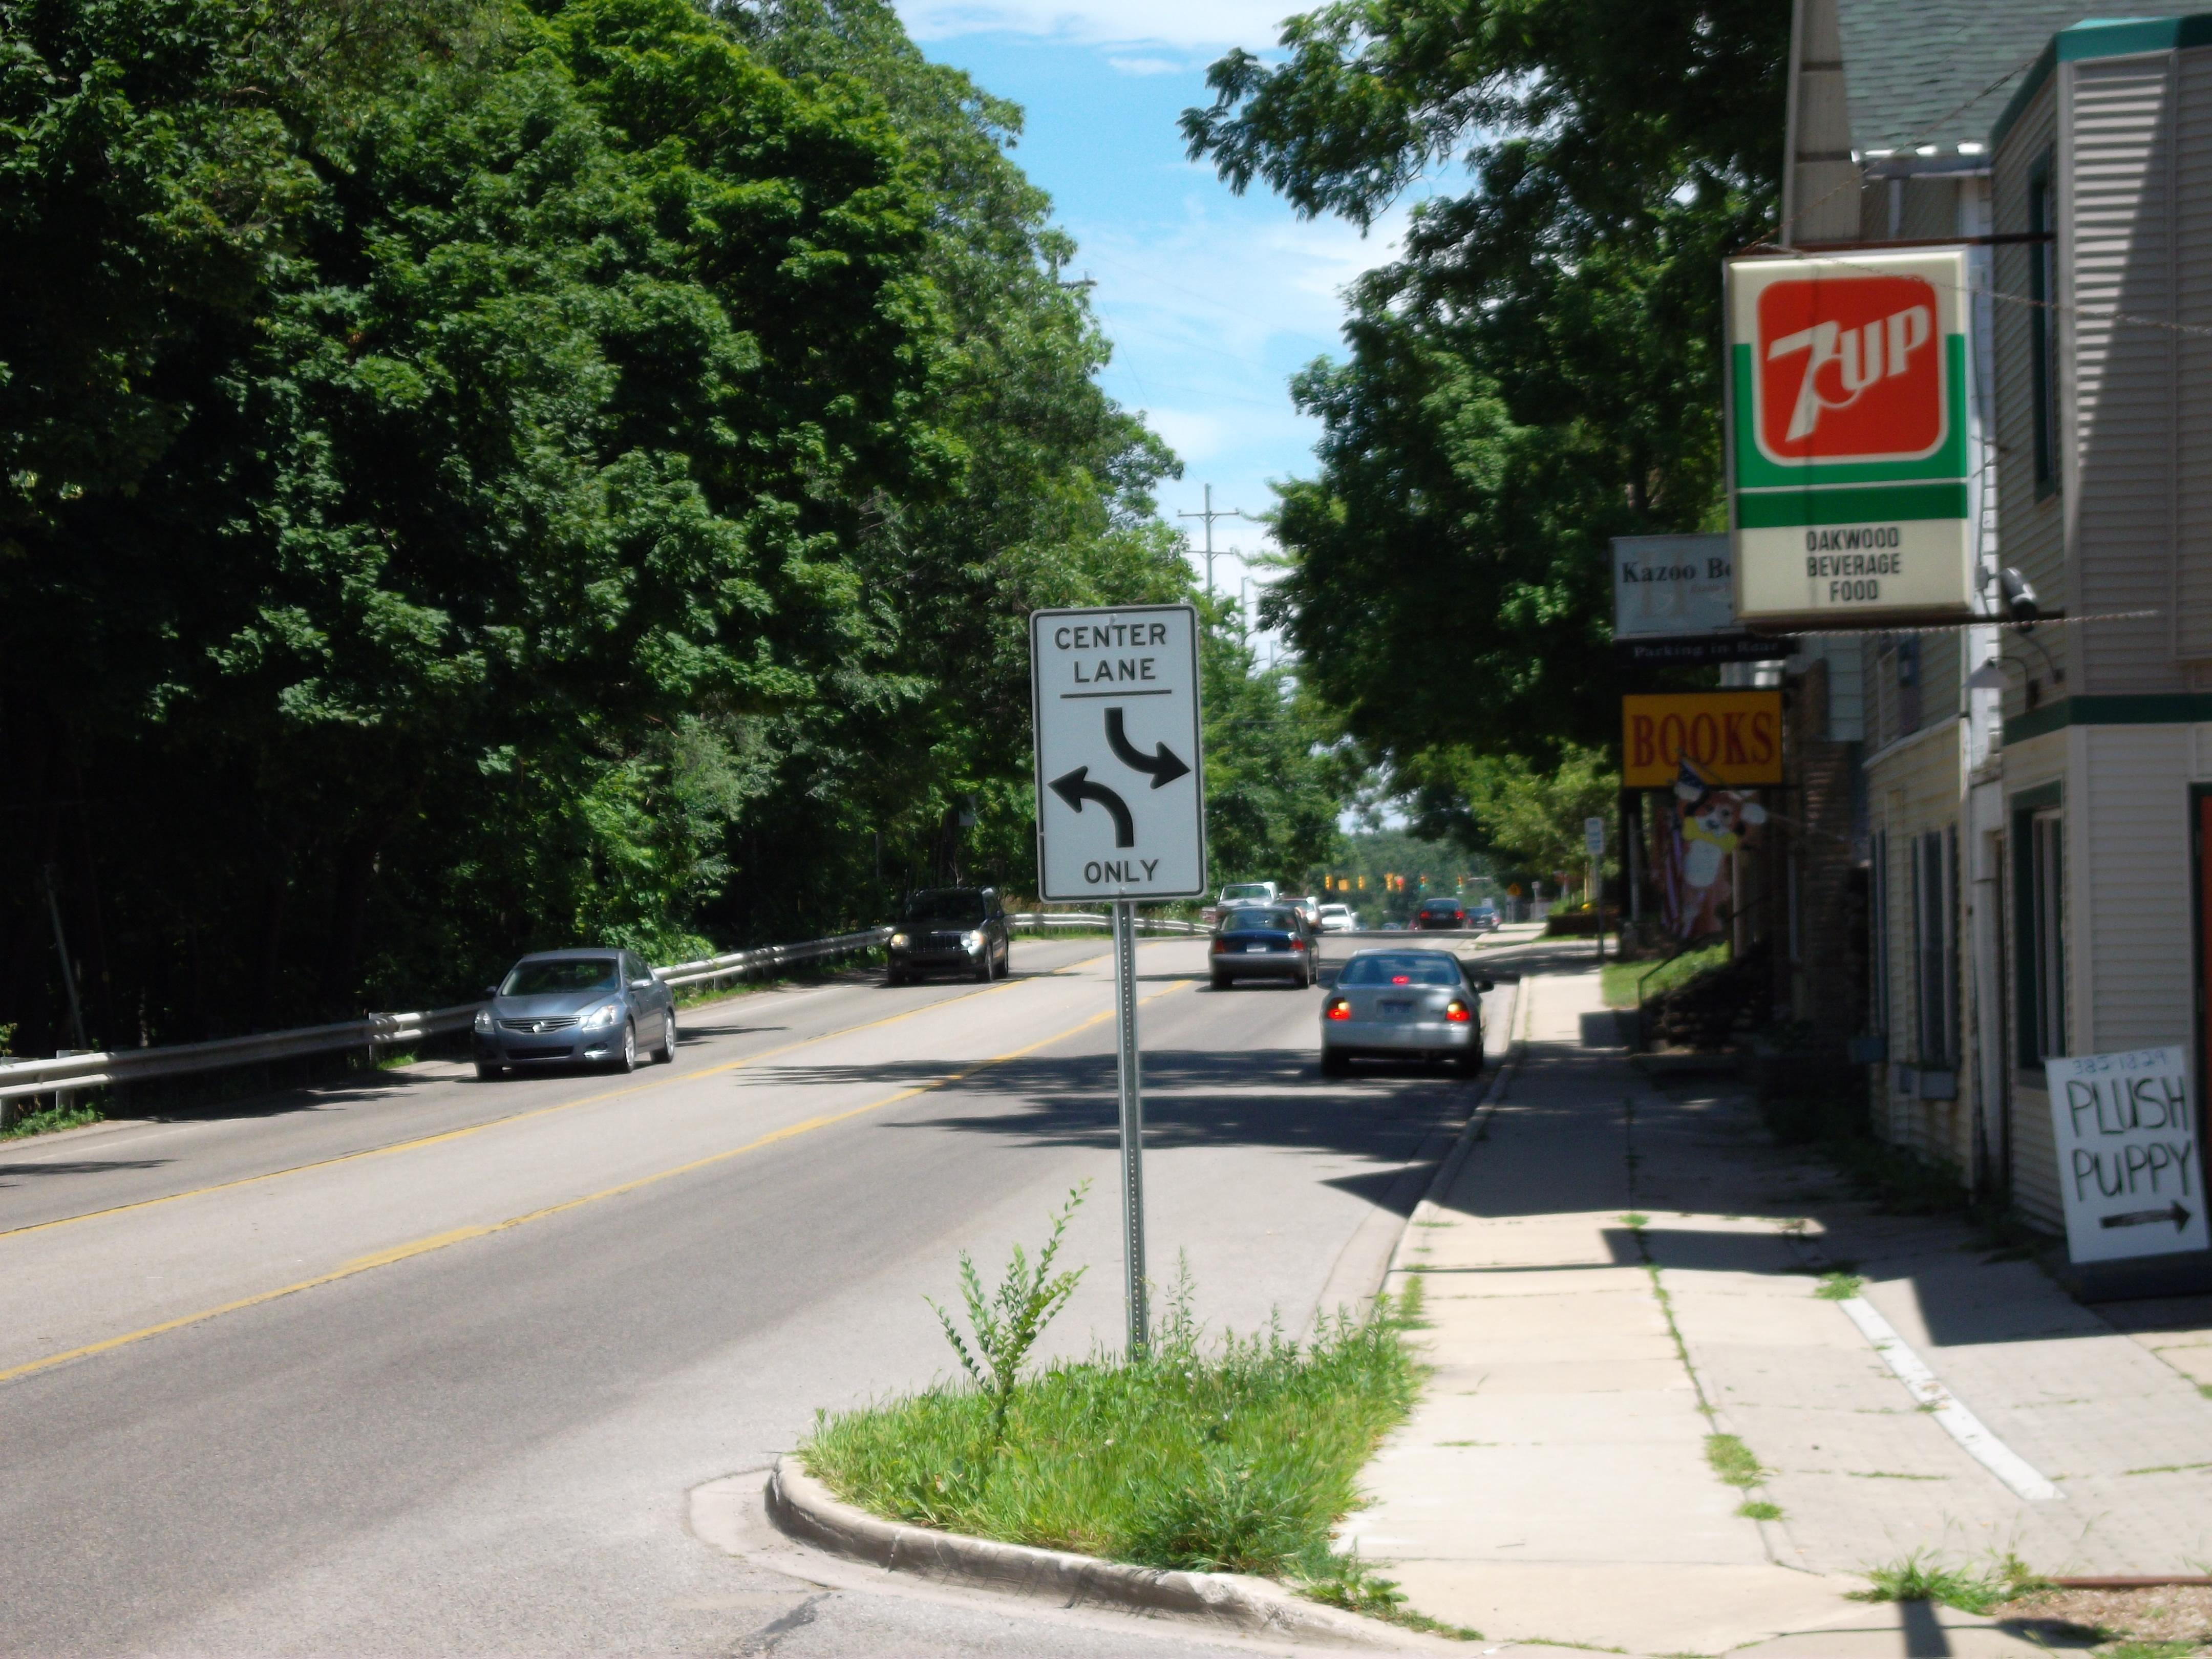regulatory: (1029, 587, 1217, 917)
